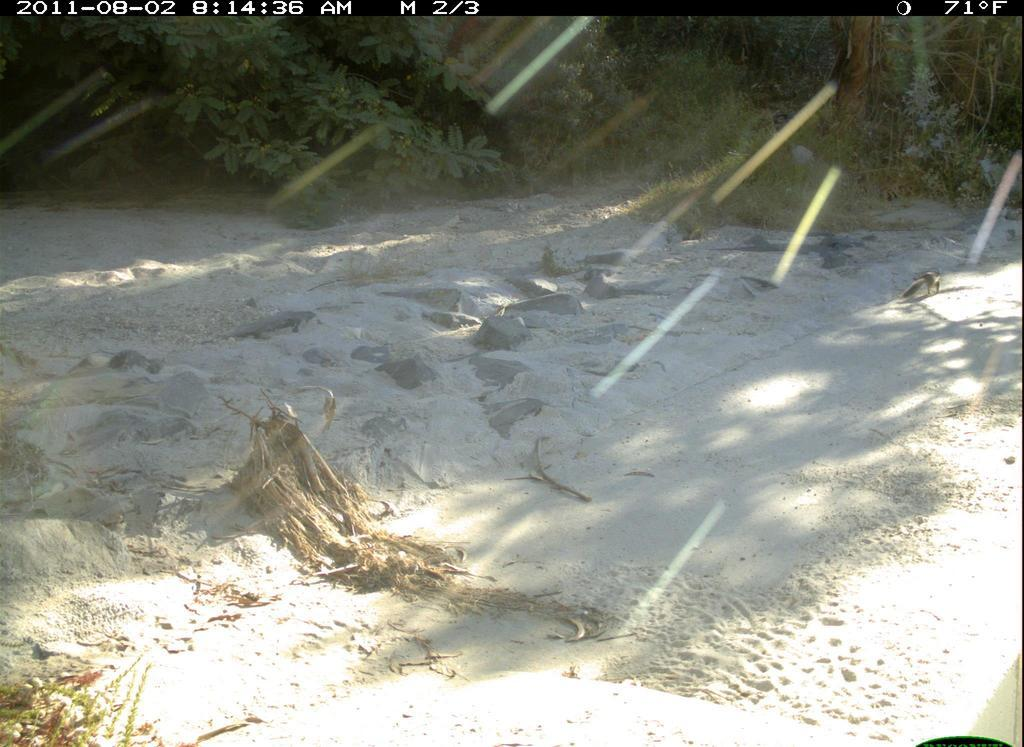squirrel: (903, 268, 947, 319)
